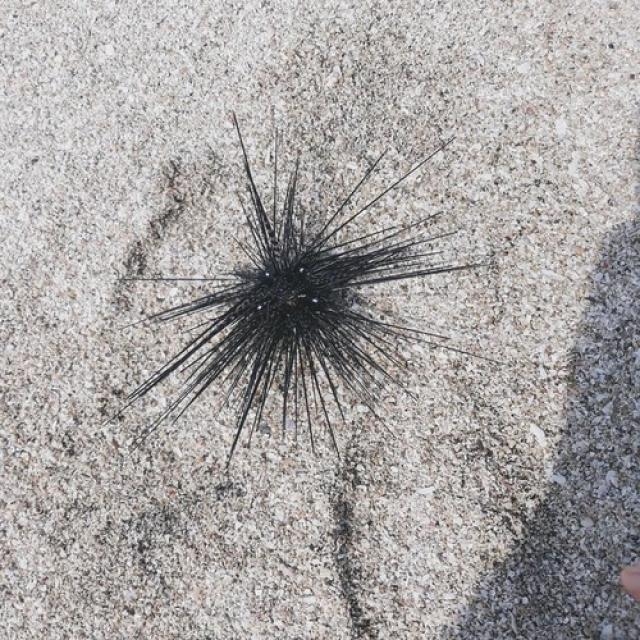Urchin: (124, 114, 504, 484)
